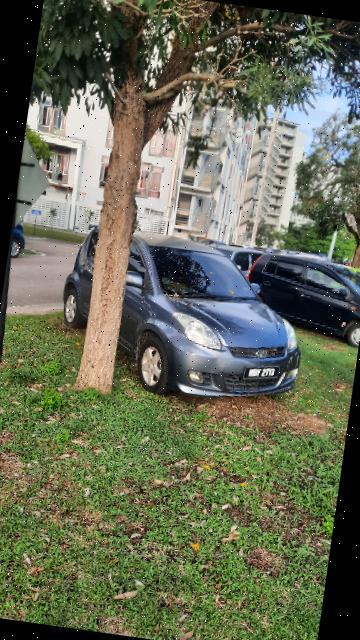License_Plate: (244, 364, 283, 384)
car: (55, 216, 313, 414), (240, 246, 360, 350)
